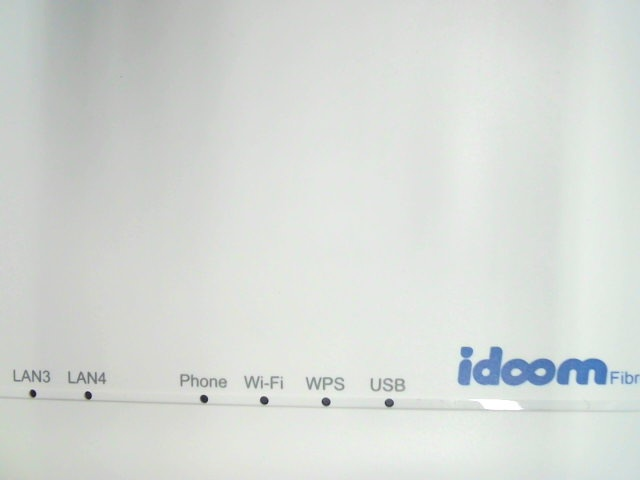BB_idoom: (440, 342, 625, 396)
